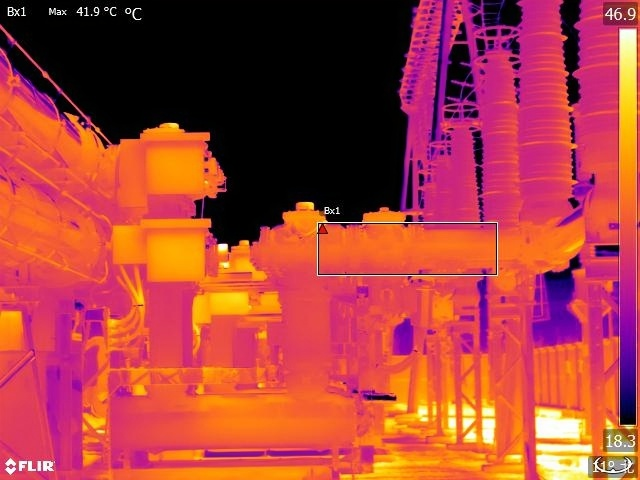tube: (511, 1, 580, 214), (569, 1, 637, 213), (476, 20, 527, 228), (441, 96, 485, 231), (426, 131, 458, 227)
